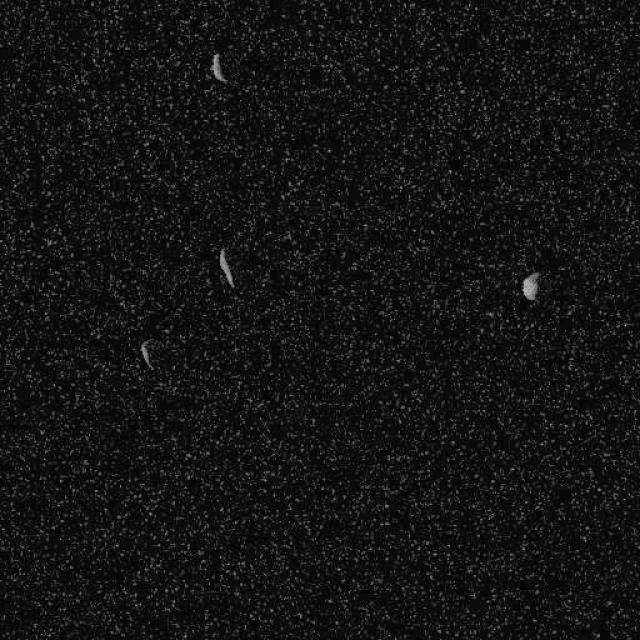D2: (217, 246, 235, 289), (209, 51, 229, 84), (521, 270, 540, 300), (139, 339, 155, 370)
